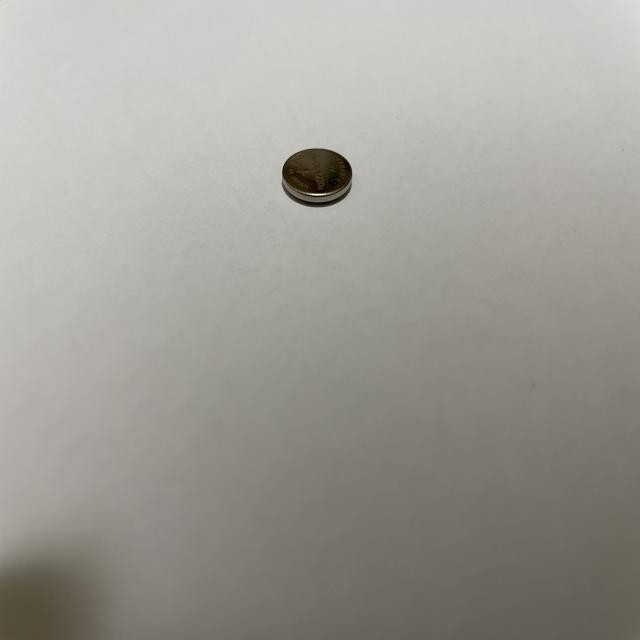COIN: (280, 148, 354, 206)
